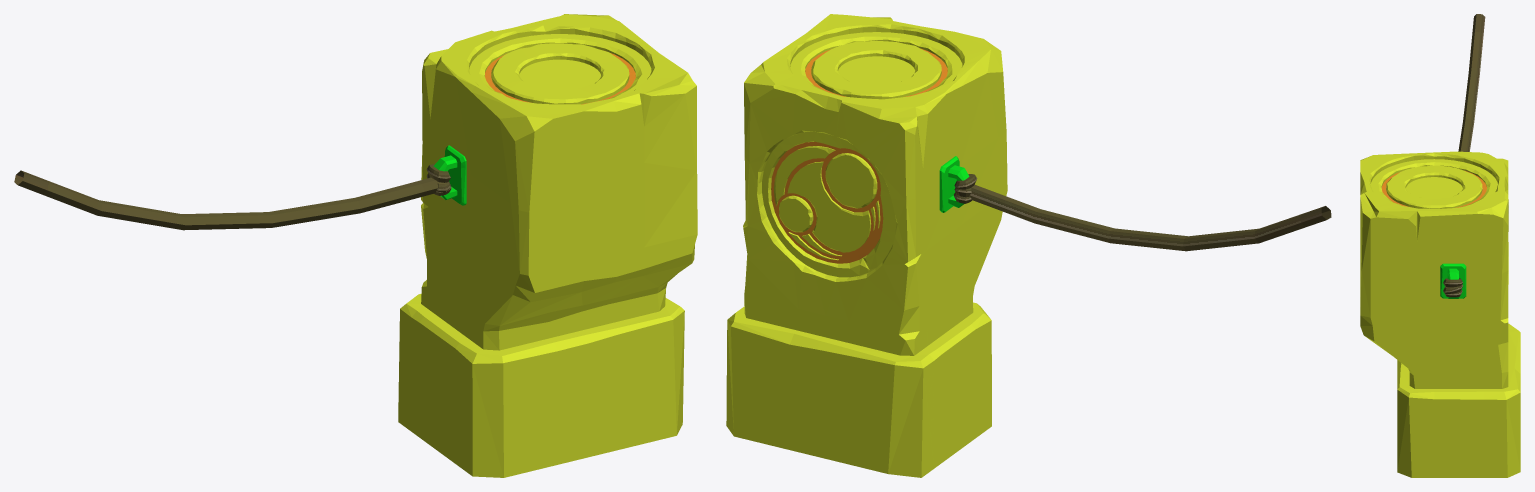
File: Merchant_ReRoll.fbx
3 views of the same model, side by side, from view 1: azimuth 30°, elevation 25°; view 2: azimuth 150°, elevation 25°; view 3: azimuth 270°, elevation 25° (orthographic). The views are drawn at different scales.
Parts seen in each view (by area): view 1: SM_Merchant_ReRoll_01.mo; view 2: SM_Merchant_ReRoll_01.mo; view 3: SM_Merchant_ReRoll_01.mo.
Part boxes in pixels (x1,y1,x2,y2): SM_Merchant_ReRoll_01.mo: (14,14,697,477); SM_Merchant_ReRoll_01.mo: (726,14,1331,477); SM_Merchant_ReRoll_01.mo: (1360,14,1520,477).
Size of the model in its own units: 267 by 151 by 84.53.
